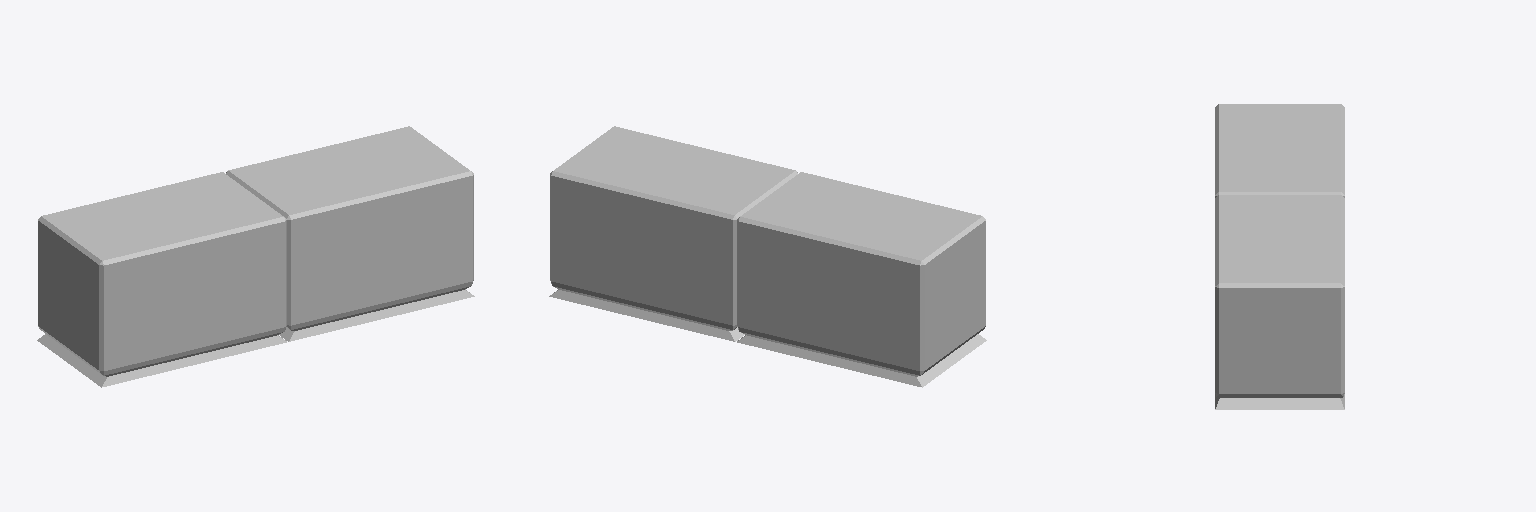
The model's file is banco2.obj.
The picture shows the model from 3 angles: view 1: azimuth 30°, elevation 25°; view 2: azimuth 150°, elevation 25°; view 3: azimuth 270°, elevation 25°; orthographic projection.
Visible parts, largest first — view 1: Cube; view 2: Cube; view 3: Cube.
Part boxes in pixels (bbox=[...]): Cube: bbox=[37, 126, 474, 387]; Cube: bbox=[549, 126, 986, 387]; Cube: bbox=[1215, 104, 1344, 409].
Bounding box in the file's own units: 6.67 × 2.12 × 2.